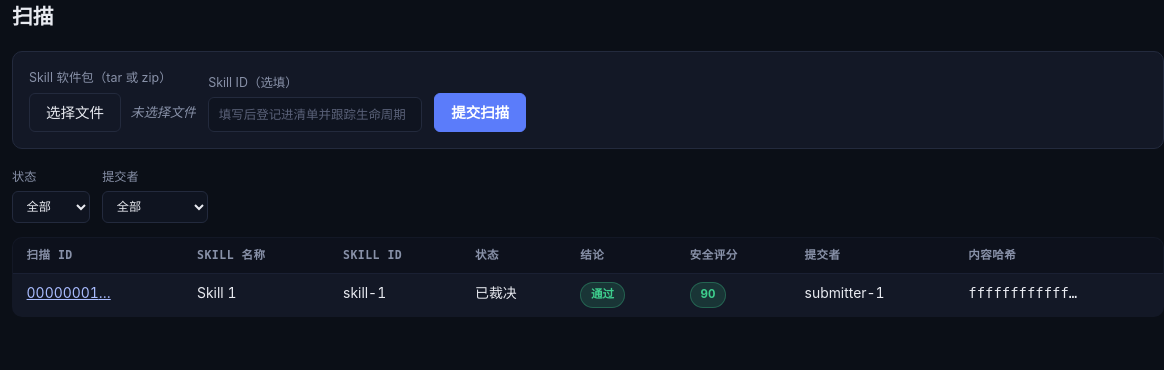
ScansPage trust tier on a resubmission › disables the tier control for a skill_id that is already registered
Expected: the text "Skill 1" is shown, [184, 273, 330, 316]
Type "already-registered" into the field with placeholder "填写后登记进清单并跟踪生命周期".
click(315, 115); type("already-registered")  # box [208, 98, 422, 132]
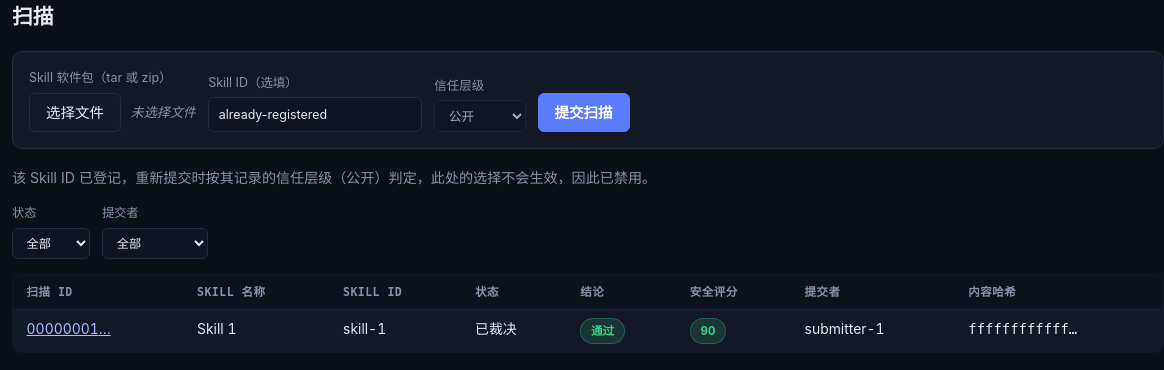
Now the dropdown labelled "信任层级" is disabled, box [434, 100, 526, 132]
Now the dropdown labelled "信任层级" shows "公开", box [434, 100, 526, 132]
